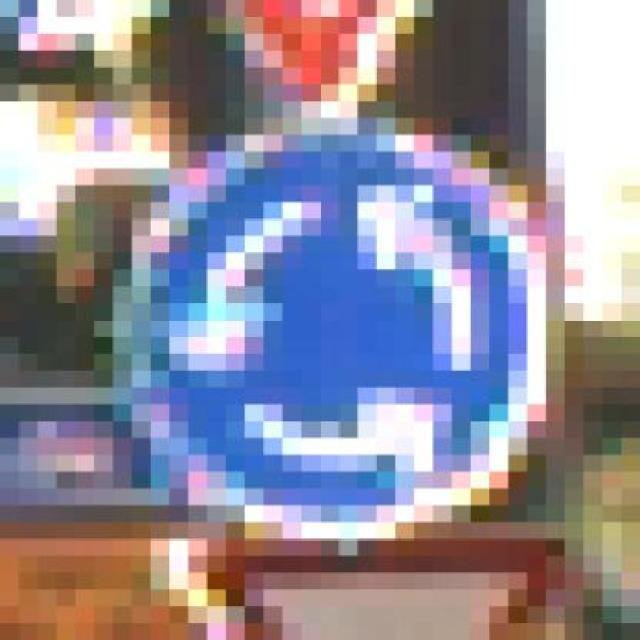Round-About: (37, 101, 621, 556)
